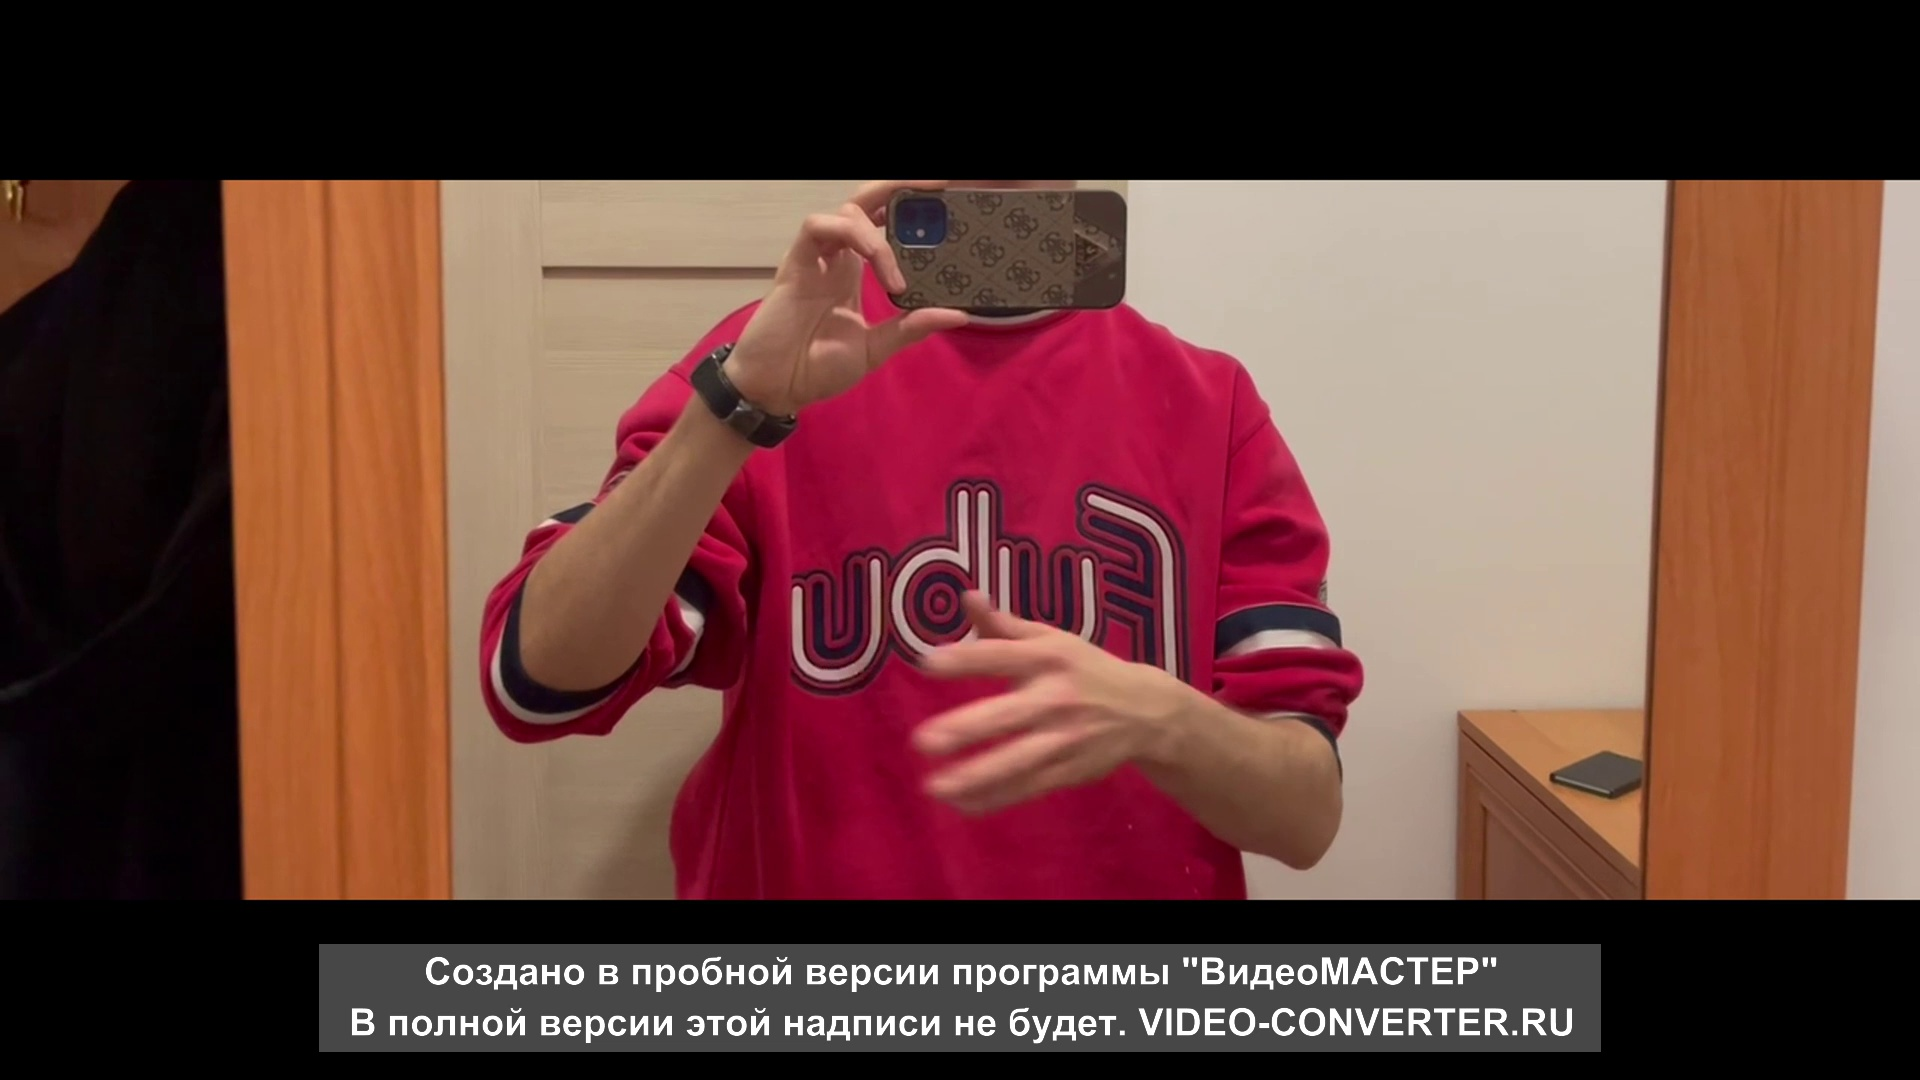Кисть: (911, 583, 1158, 815)
